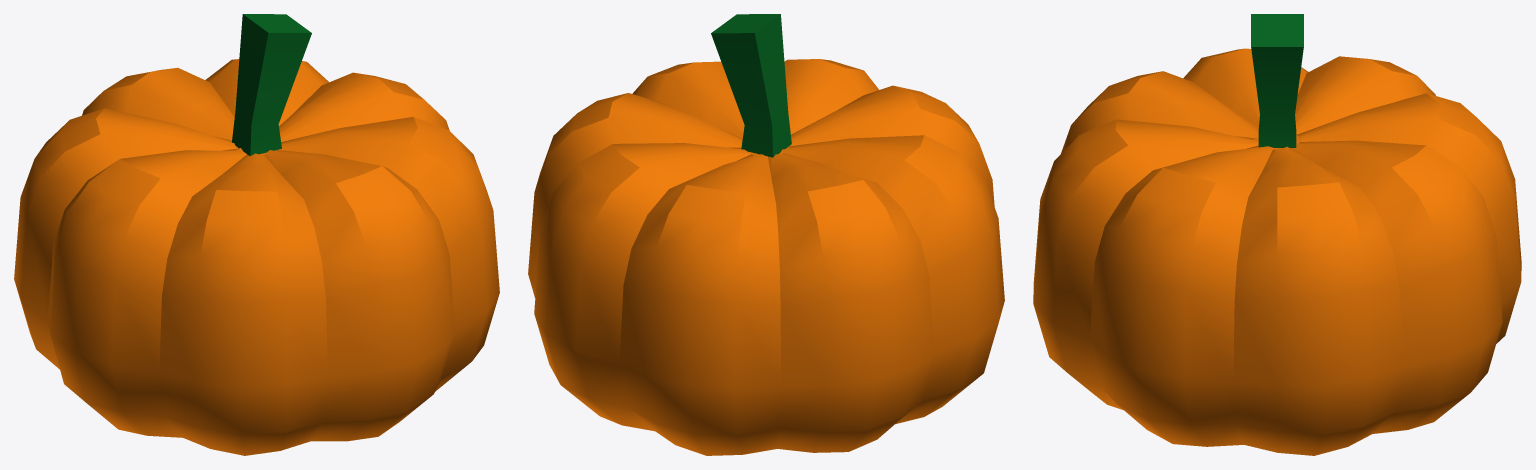
Rendered from pumpkin.fbx.
3 views of the same model, side by side, from view 1: azimuth 30°, elevation 25°; view 2: azimuth 150°, elevation 25°; view 3: azimuth 270°, elevation 25° (orthographic). The views are drawn at different scales.
Visible parts, largest first — view 1: pumpkin; view 2: pumpkin; view 3: pumpkin.
Part boxes in pixels (bbox=[...]): pumpkin: bbox=[14, 14, 499, 455]; pumpkin: bbox=[528, 14, 1004, 455]; pumpkin: bbox=[1033, 14, 1521, 455].
Size of the model in its own units: 1002 by 855 by 1002.
